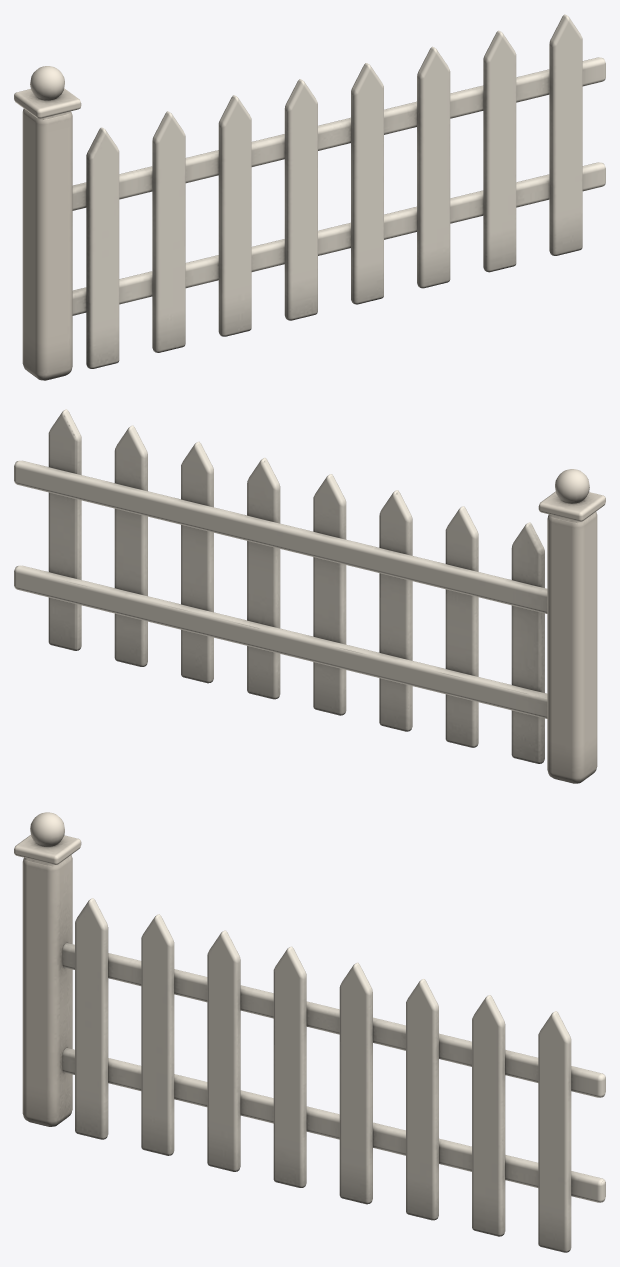
File: fence_picket.glb
3 renders of one model, top to bottom at view 1: azimuth 30°, elevation 25°; view 2: azimuth 150°, elevation 25°; view 3: azimuth 330°, elevation 25°, orthographic.
Visible parts, largest first — view 1: fence_picket; view 2: fence_picket; view 3: fence_picket.
Part boxes in pixels (x1,y1,x2,y2): fence_picket: (14, 14, 605, 380); fence_picket: (14, 409, 605, 783); fence_picket: (14, 812, 605, 1252).
Size of the model in its own units: 2.08 by 1.05 by 0.16.
2 materials, 2 textured.
